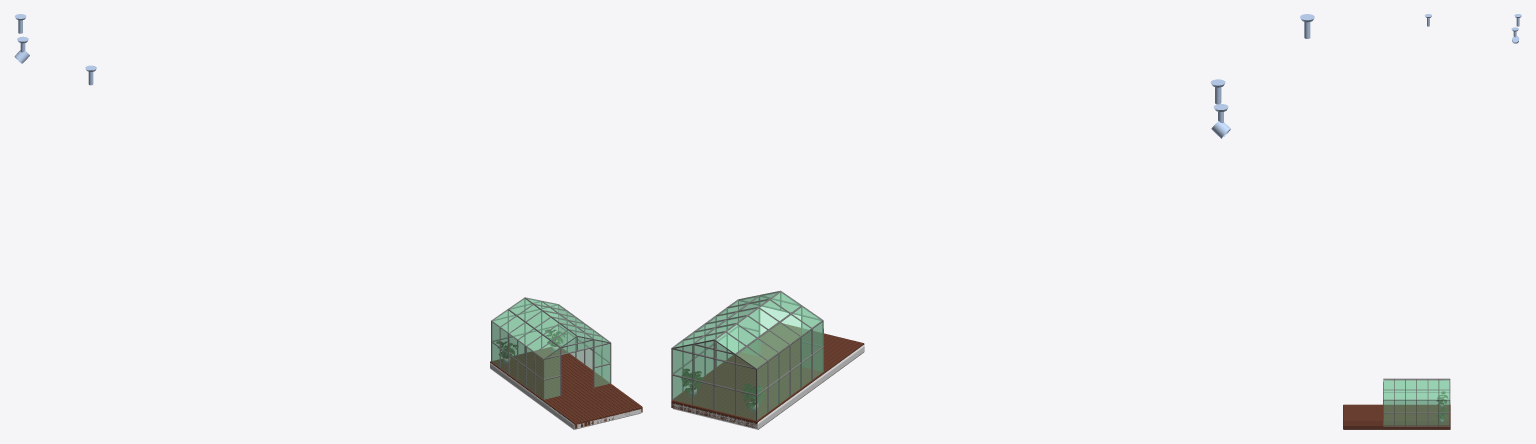
File: floraOBJcomprimido2.glb
The picture shows the model from 3 angles, left to right: view 1: azimuth 30°, elevation 25°; view 2: azimuth 150°, elevation 25°; view 3: azimuth 270°, elevation 25°; orthographic projection. The views are drawn at different scales.
Visible parts, largest first — view 1: Greenhouse, Plano.002, Plano; view 2: Greenhouse, Plano.002, Plano; view 3: Greenhouse, Plano.002.
Boxes of the visible parts, x1,y1,x2,y2 form: Greenhouse: [491, 297, 611, 399]; Plano.002: [490, 347, 642, 428]; Plano: [490, 363, 641, 429]; Greenhouse: [671, 290, 823, 420]; Plano.002: [671, 323, 864, 428]; Plano: [672, 345, 864, 429]; Greenhouse: [1383, 378, 1450, 426]; Plano.002: [1343, 404, 1450, 429].
Size of the model in its own units: 47.74 by 38.47 by 23.58.
